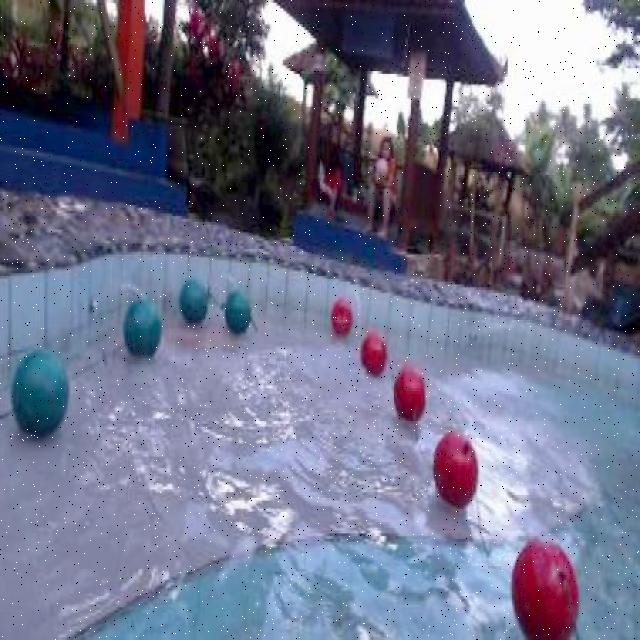buoy: (510, 534, 579, 636), (10, 346, 70, 436), (432, 427, 478, 509), (122, 296, 162, 355), (392, 366, 426, 422), (177, 278, 207, 324), (223, 286, 250, 333), (359, 330, 386, 374), (331, 298, 352, 336)
